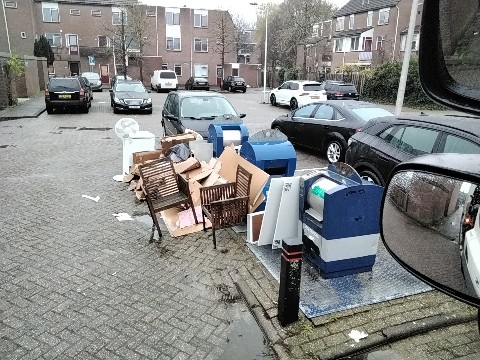Container: (304, 173, 374, 269), (251, 135, 296, 176), (209, 117, 243, 144)
Rest: (147, 150, 207, 235), (190, 151, 256, 217), (228, 177, 292, 245), (126, 132, 182, 186), (161, 113, 198, 162)
Voertuig: (369, 116, 480, 208), (268, 99, 358, 142), (169, 82, 229, 140), (51, 73, 91, 111), (276, 80, 330, 108), (99, 82, 147, 113), (332, 72, 361, 102)
